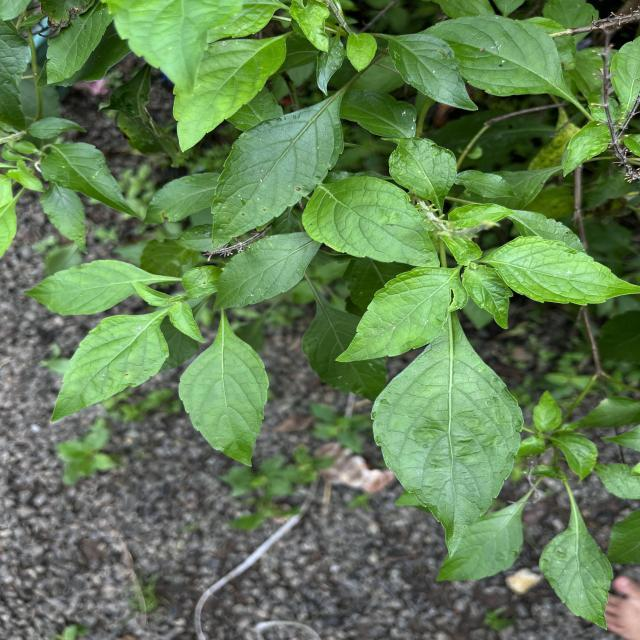Ocimum gratissimum: (368, 322, 528, 564), (206, 83, 349, 254), (414, 10, 588, 114), (46, 303, 174, 424), (176, 310, 272, 470), (332, 258, 472, 366), (169, 32, 290, 155), (300, 174, 442, 270), (479, 233, 640, 310), (536, 485, 616, 633), (205, 226, 326, 314), (12, 258, 176, 318), (380, 29, 482, 114), (379, 130, 462, 215)
